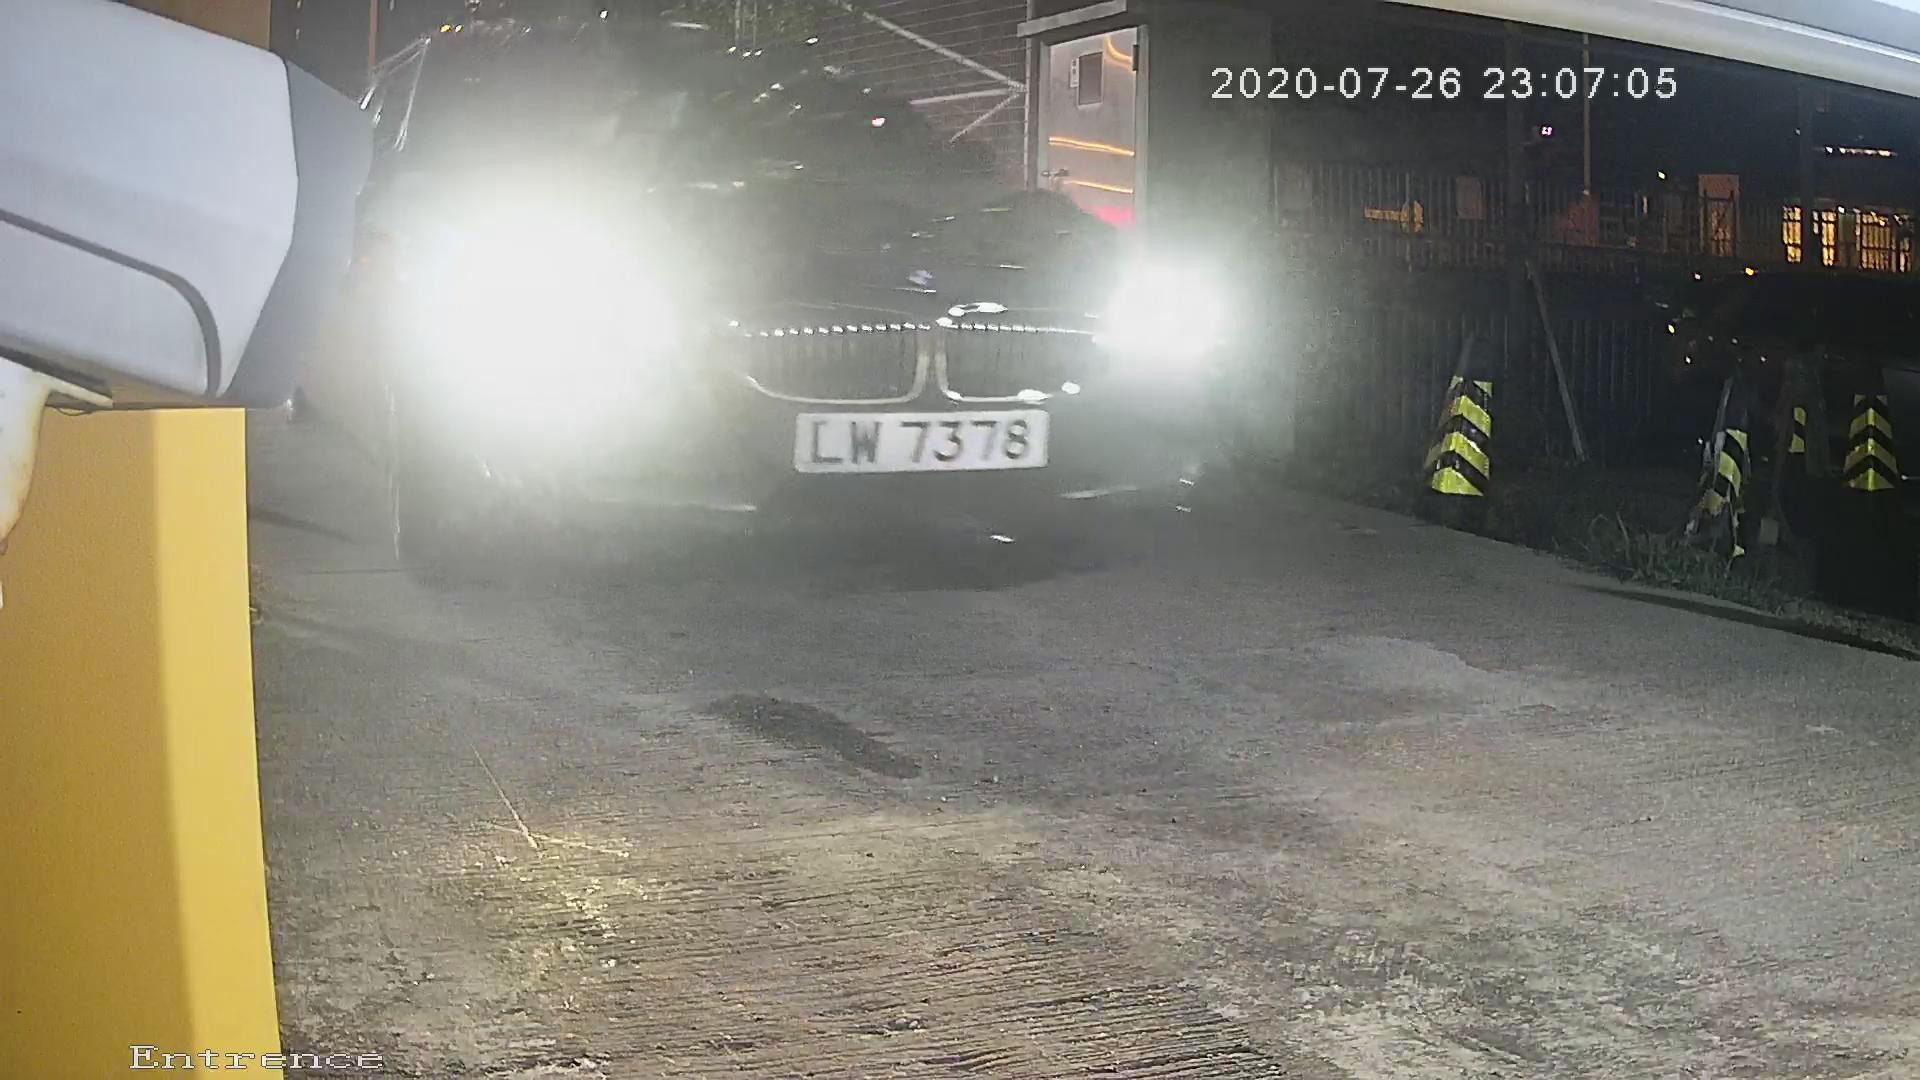License Plate: (738, 386, 1081, 483)
